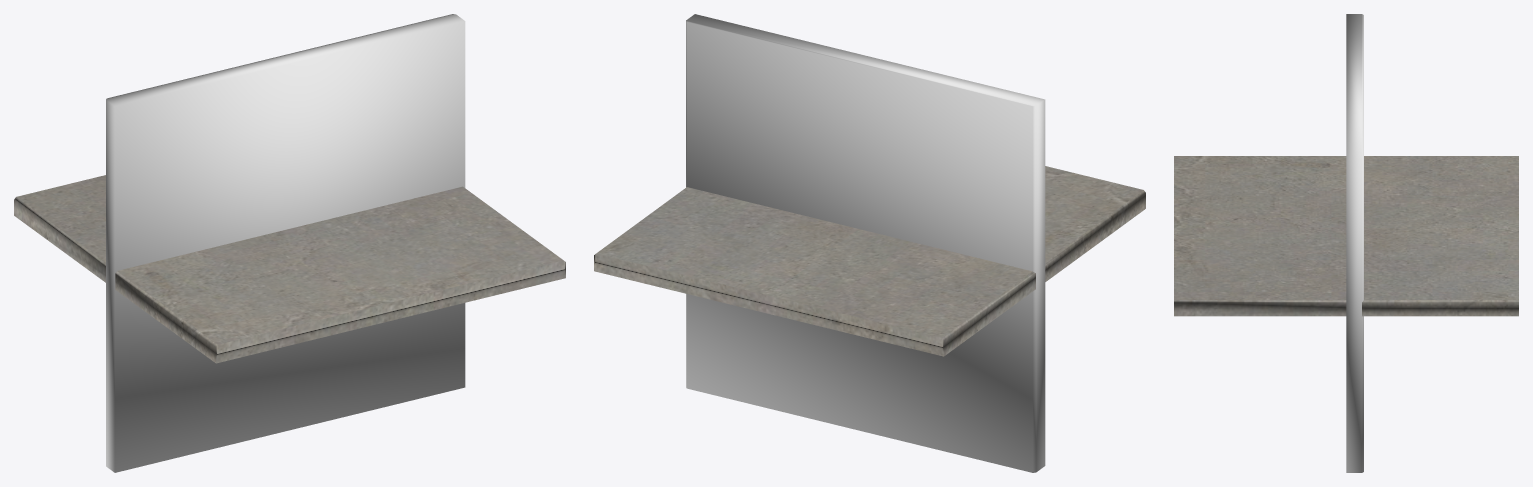
File: SM_Sidewalk_Basic.fbx
3 renders of one model, left to right at view 1: azimuth 30°, elevation 25°; view 2: azimuth 150°, elevation 25°; view 3: azimuth 270°, elevation 25°, orthographic. The views are drawn at different scales.
Visible parts, largest first — view 1: SM_Sidewalk_Basic_ConvexHulls, SM_Sidewalk_Basic; view 2: SM_Sidewalk_Basic_ConvexHulls, SM_Sidewalk_Basic; view 3: SM_Sidewalk_Basic, SM_Sidewalk_Basic_ConvexHulls.
Boxes of the visible parts, x1=… form: SM_Sidewalk_Basic_ConvexHulls: x1=106, y1=14, x2=465, y2=472; SM_Sidewalk_Basic: x1=14, y1=175, x2=565, y2=363; SM_Sidewalk_Basic_ConvexHulls: x1=686, y1=14, x2=1045, y2=472; SM_Sidewalk_Basic: x1=594, y1=166, x2=1145, y2=356; SM_Sidewalk_Basic: x1=1174, y1=156, x2=1518, y2=316; SM_Sidewalk_Basic_ConvexHulls: x1=1346, y1=14, x2=1363, y2=472.
Bounding box in the file's own units: 2 × 2 × 2.
